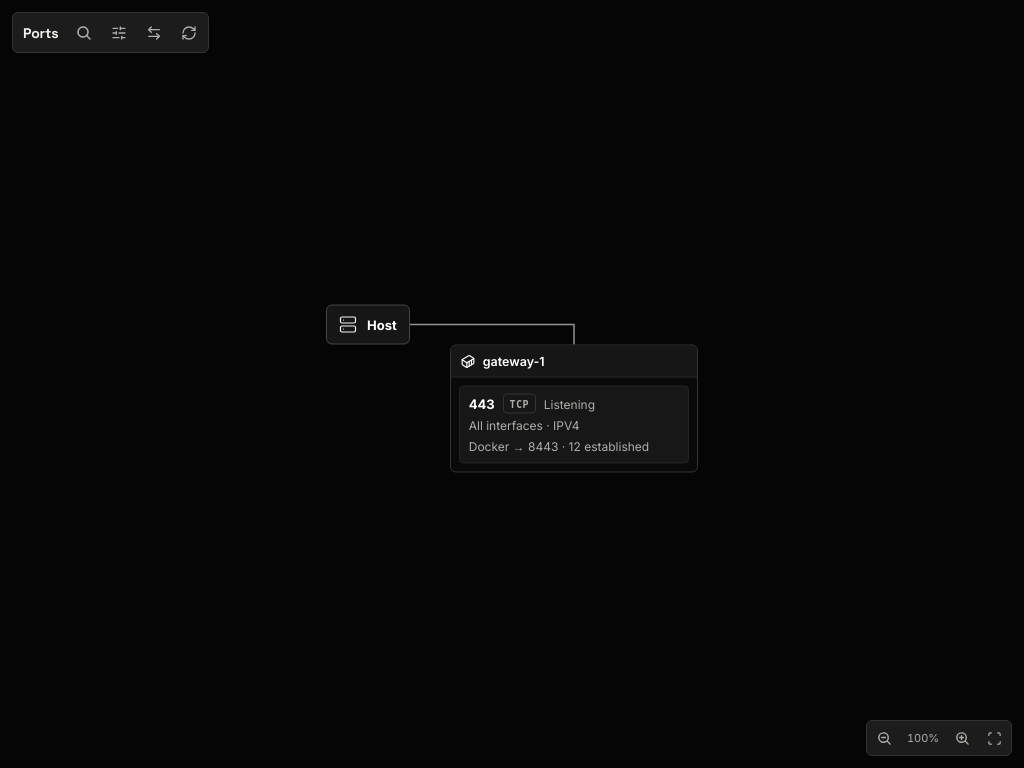
Test: PortsPane › dismisses details with Escape and closes them when filters hide the selected item
Click the button that starts with "TCP": (574, 424) [459,386,689,464]
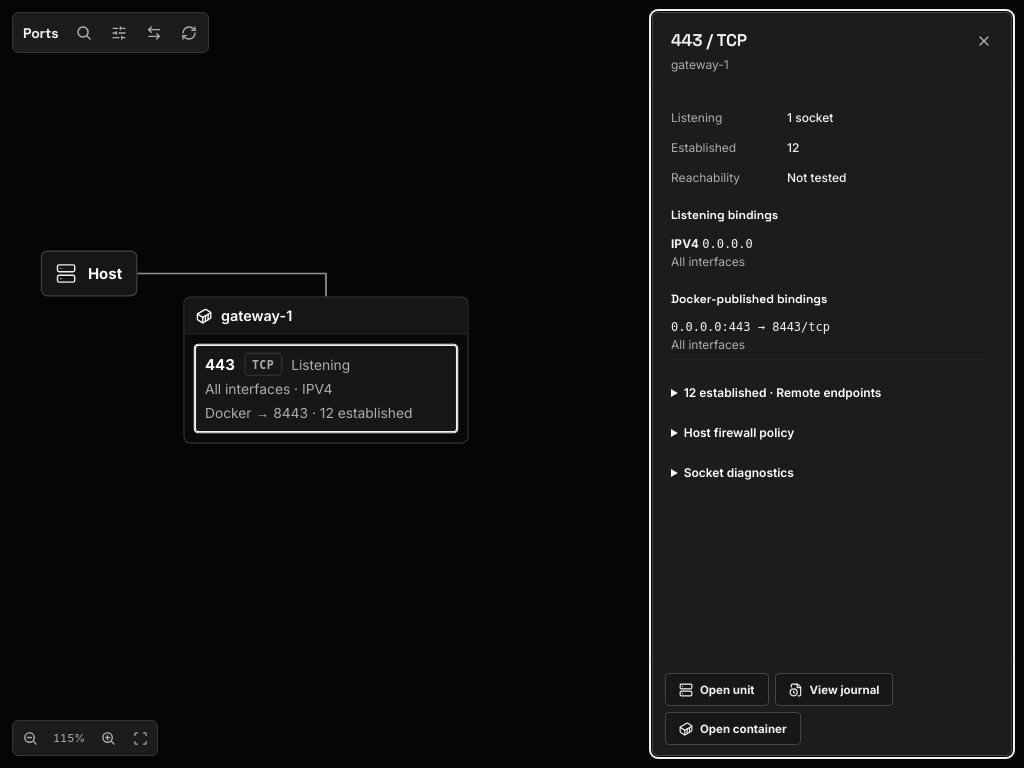
Press Escape
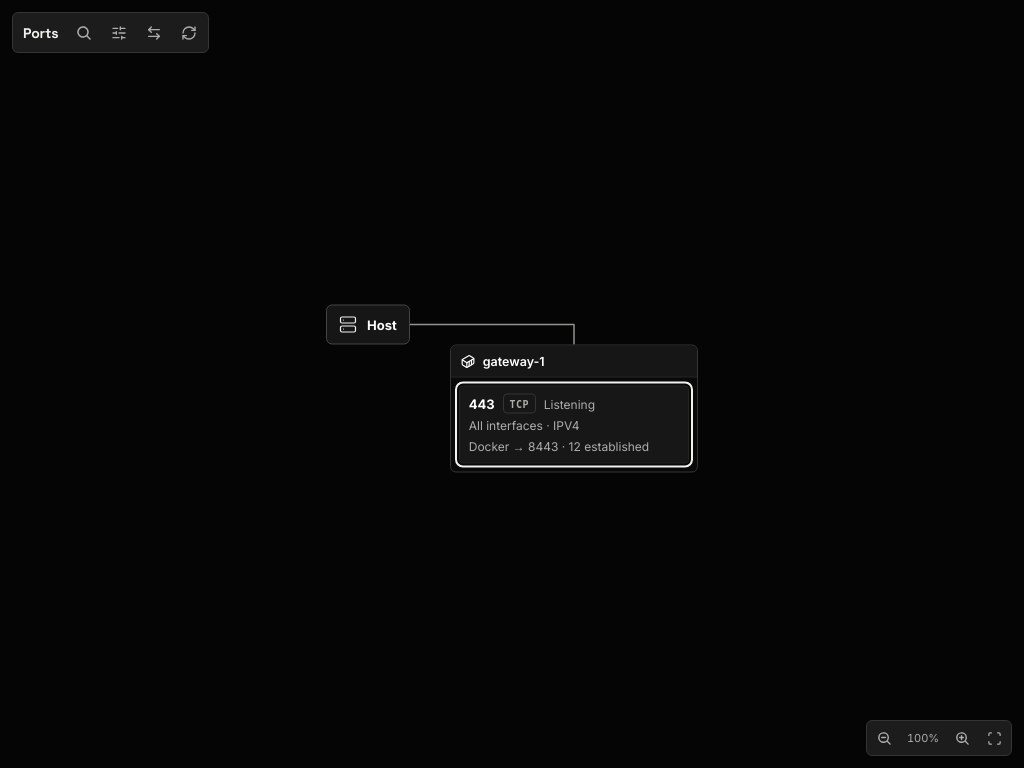
Click the button that starts with "TCP": (574, 424) [459,386,689,464]
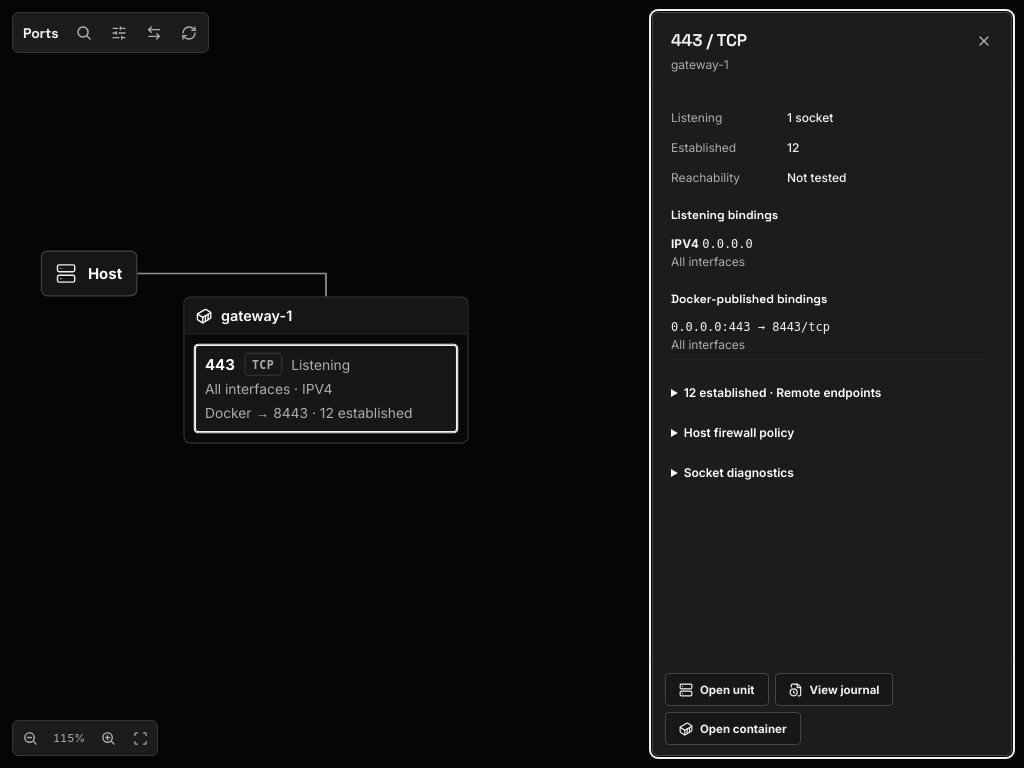
Click the button named "Filter ports": (119, 32) [103,17,134,48]
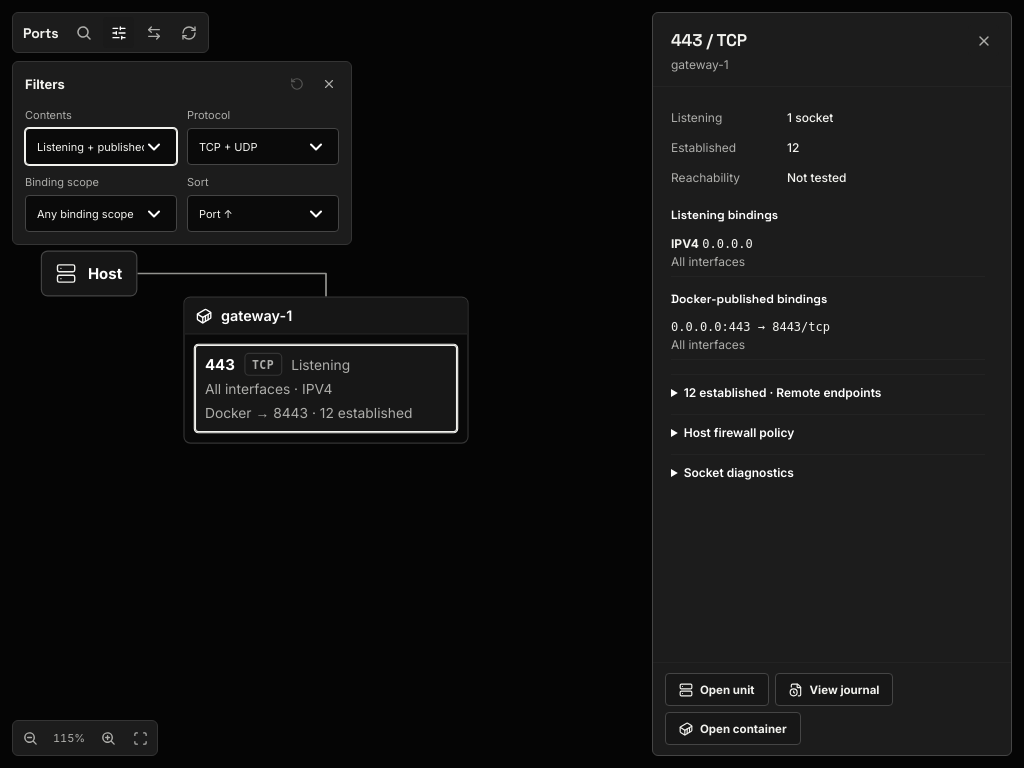
Select "UDP" in the dropdown named "Protocol filter": (263, 146) [187,128,339,165]
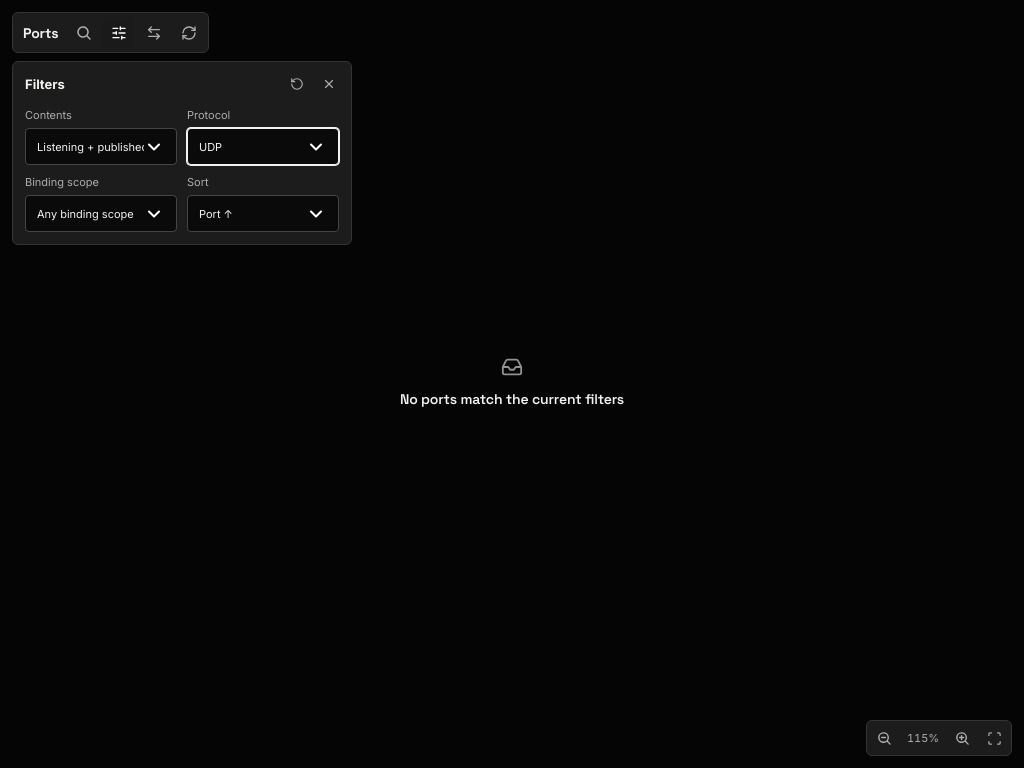
expect the heading "No ports match the current filters" is shown: met, box [400,390,624,408]
